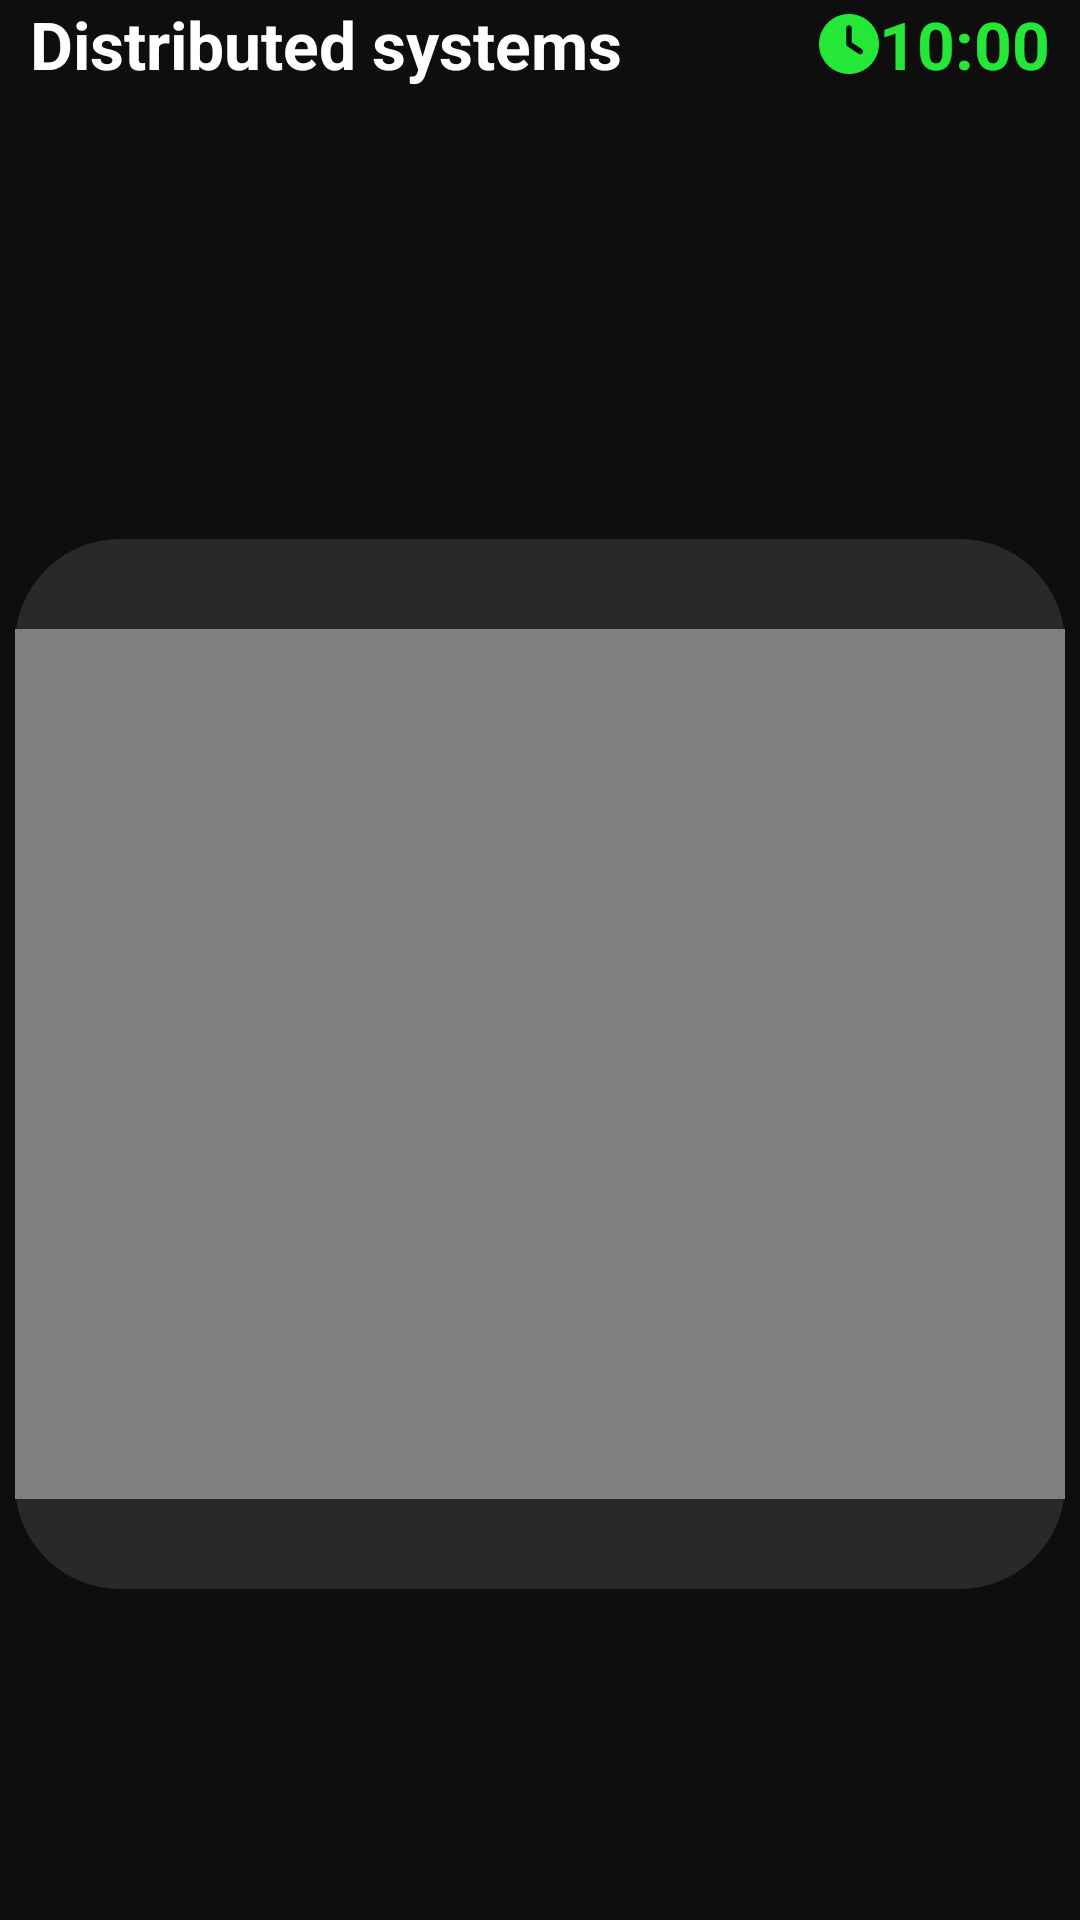

Screen size 1080×1920. Icon name, then its center in pixels as (x=x, y=y):
clock: (x=849, y=44)
